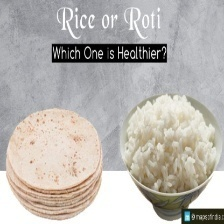rice: (119, 93, 221, 193)
